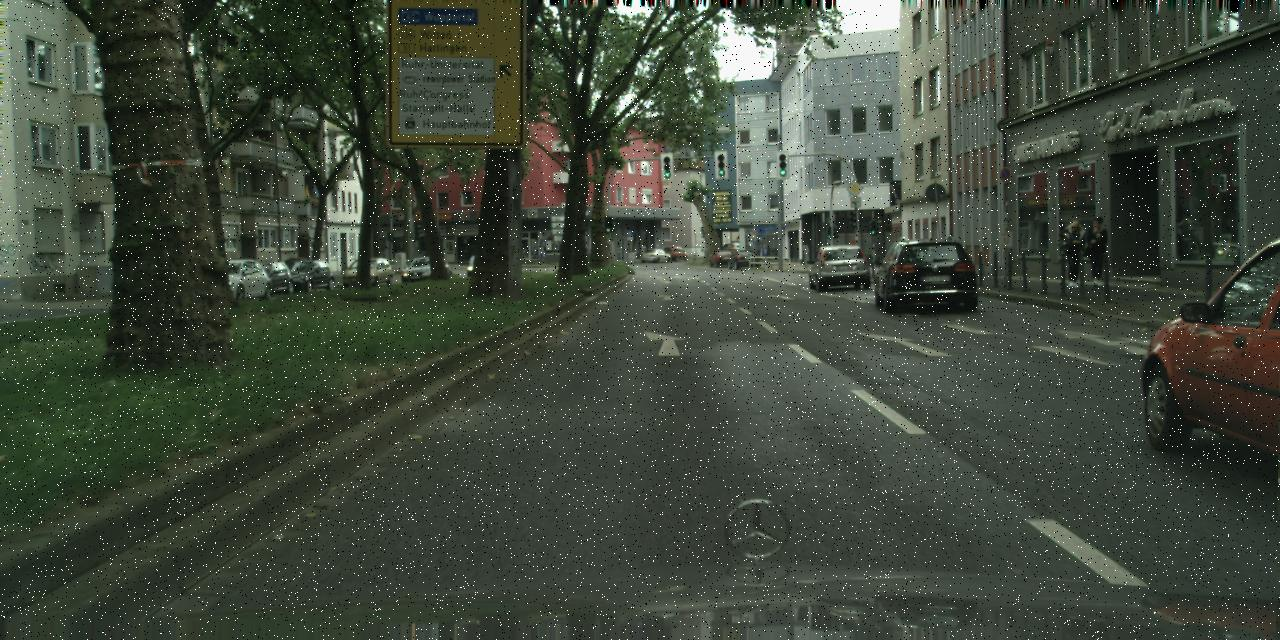ped: (1083, 217, 1111, 287), (1060, 220, 1088, 289), (760, 244, 768, 265)
